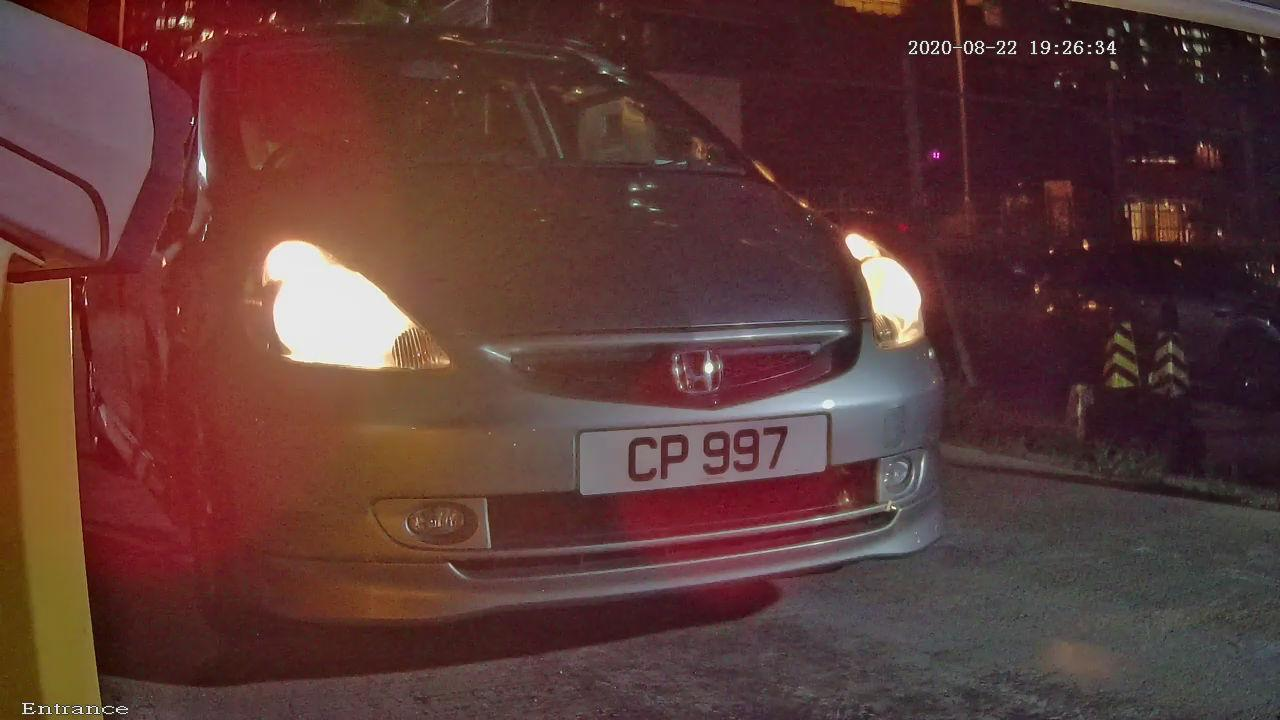Car: (52, 23, 1086, 666)
License Plate: (539, 382, 869, 531)
